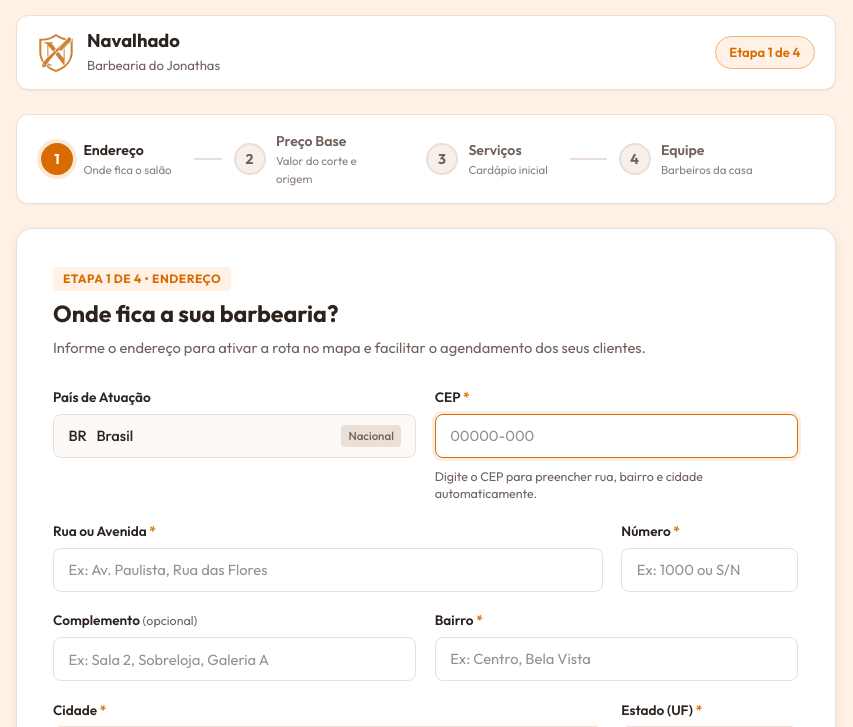
Test case: OnboardingWizard Flow (Passos 1 ao 4) › renderiza o Passo 1 (Localização) e permite avançar apenas com endereço válido
// Preencher campos obrigatórios
Type "69000-000" into the field labelled "CEP *" at x=616, y=436, box [435,414,798,458]
Type "Rua das Flores" into the field labelled "Rua ou Avenida *" at x=328, y=570, box [53,548,603,592]
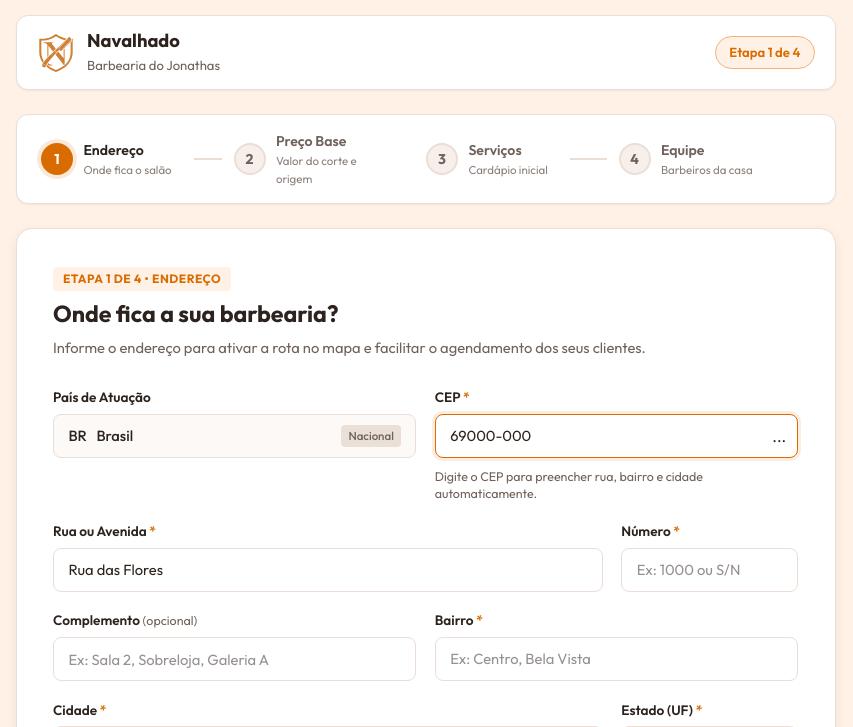
Type "123" into the field labelled "Número *" at x=710, y=570, box [621,548,798,592]
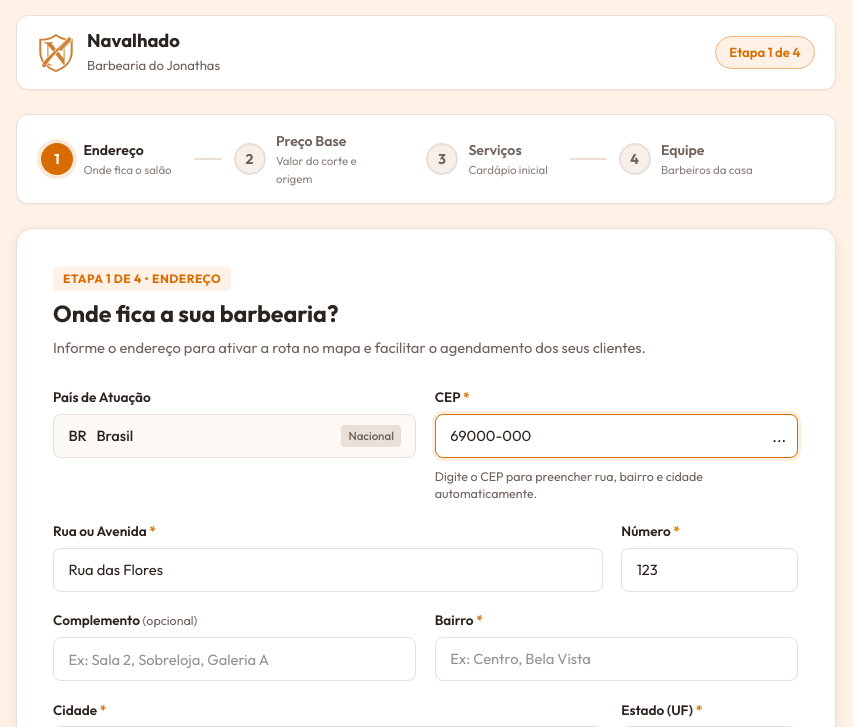
Type "Centro" into the field labelled "Bairro *" at x=616, y=659, box [435,637,798,681]
(page scrolled)
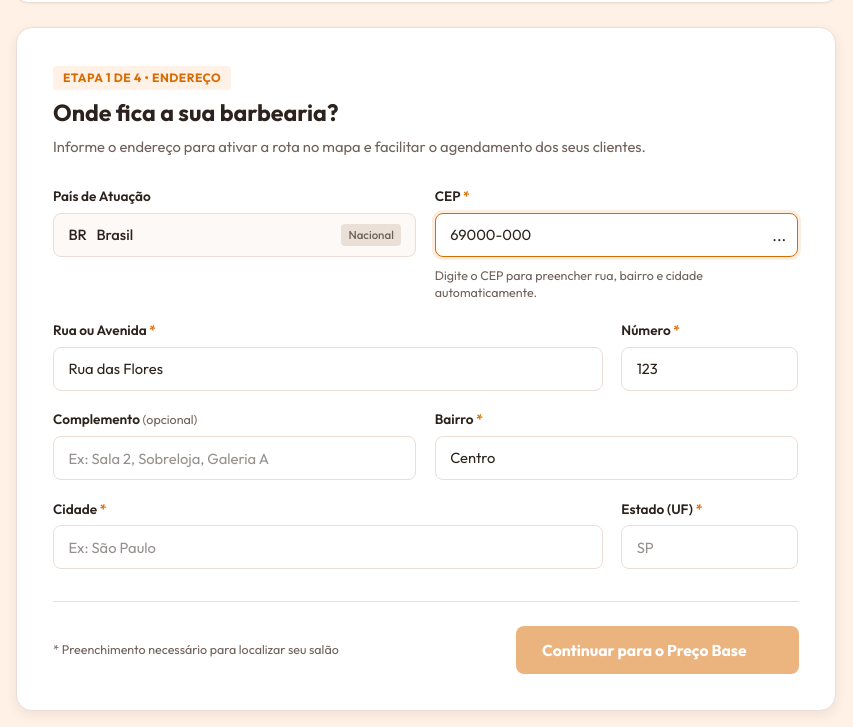
Type "Manaus" into the field labelled "Cidade *" at x=328, y=547, box [53,525,603,569]
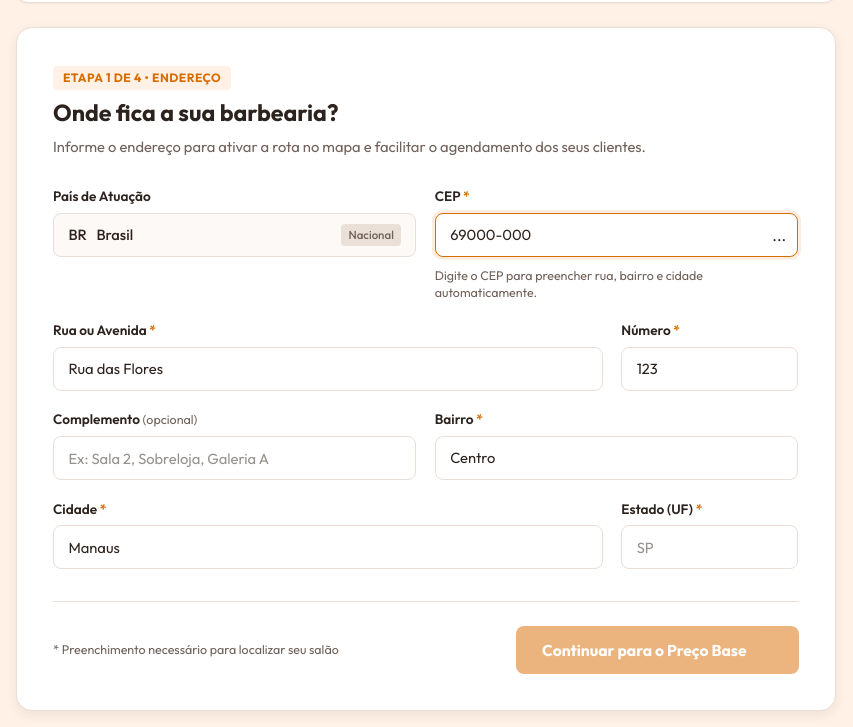
Type "AM" into the field labelled "Estado (UF) *" at x=710, y=547, box [621,525,798,569]
(page scrolled)
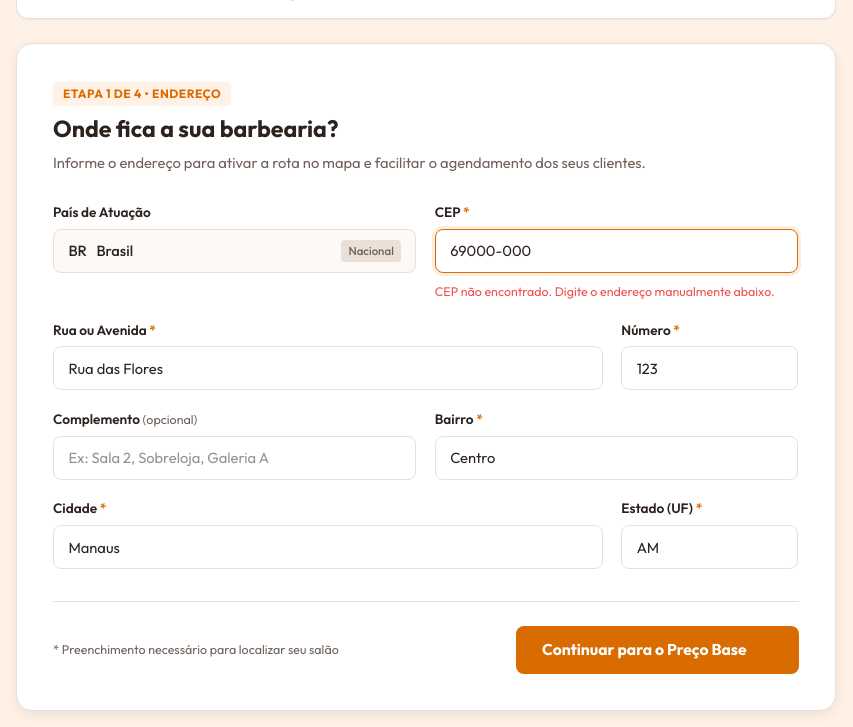
Check: the button "Continuar para o Preço Base" is enabled
Click the button "Continuar para o Preço Base" at x=657, y=650, box [516,626,799,674]
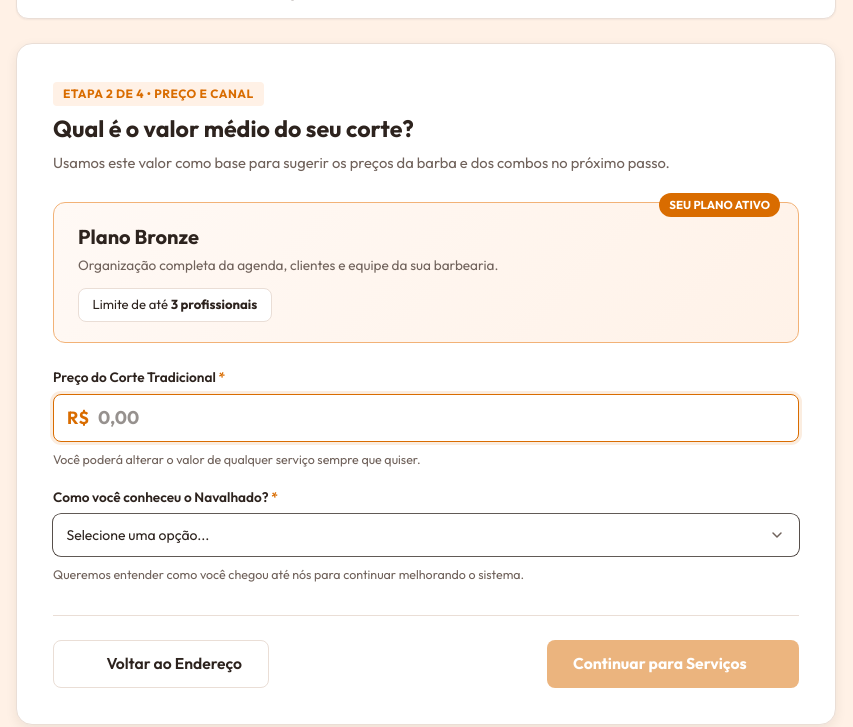
Check: the element with test id "step-segmentation" is shown
